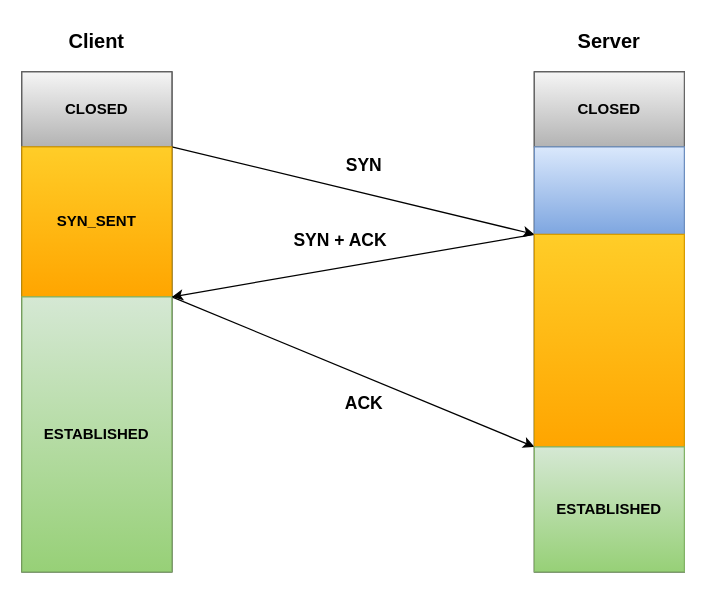
This 706x594 diagram has some shape labels left out. The shapes that lost their labels are listed below. From the top down, each one's centre as x and y in pixels, then its label:
pixel 608 190: LISTEN
pixel 608 340: SYN_RCVD
